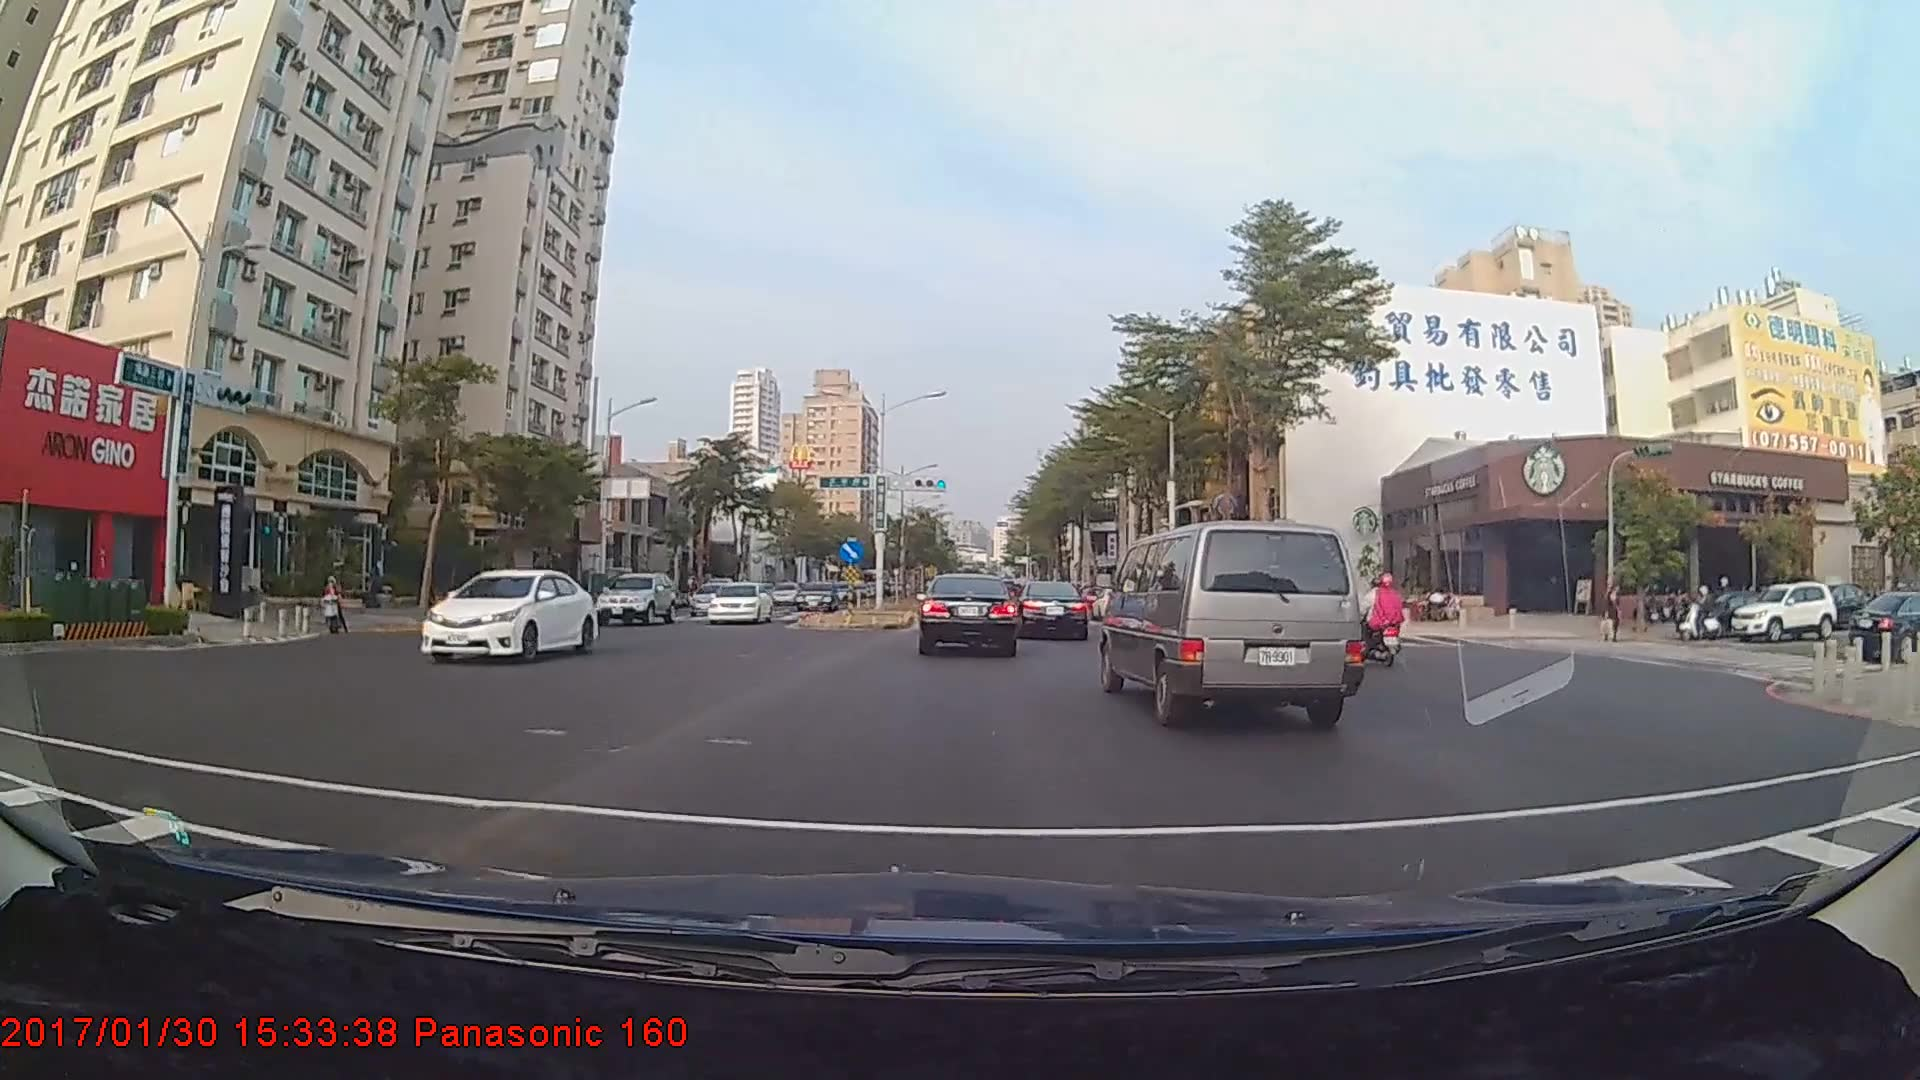pedestrian: (1602, 582, 1624, 647)
rider: (1676, 576, 1725, 640)
vehicle: (1100, 515, 1358, 727), (416, 566, 598, 665), (916, 571, 1018, 656), (1726, 583, 1840, 642), (1016, 579, 1089, 641), (592, 571, 677, 625), (705, 578, 772, 623), (792, 579, 840, 610)
